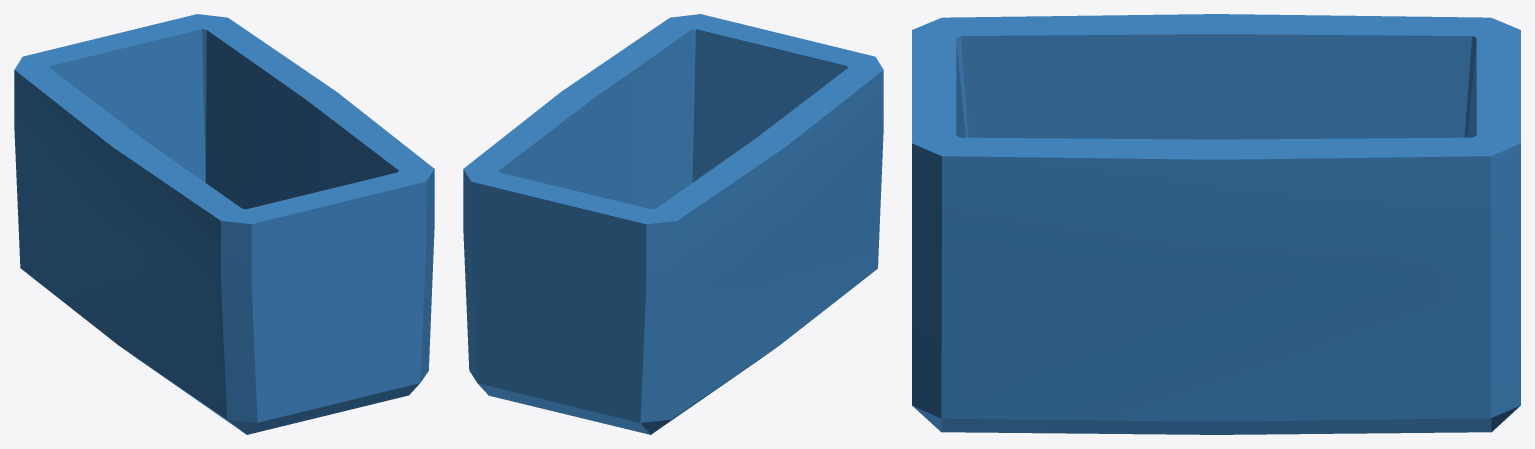
File: SM_Prop_Medical_Container_01.obj
3 views of the same model, side by side, from view 1: azimuth 30°, elevation 25°; view 2: azimuth 150°, elevation 25°; view 3: azimuth 270°, elevation 25° (orthographic). The views are drawn at different scales.
Parts seen in each view (by area): view 1: SM_Prop_Medical_Container_01_0; view 2: SM_Prop_Medical_Container_01_0; view 3: SM_Prop_Medical_Container_01_0.
Part boxes in pixels (x1,y1,x2,y2): SM_Prop_Medical_Container_01_0: [14, 14, 434, 434]; SM_Prop_Medical_Container_01_0: [463, 14, 883, 434]; SM_Prop_Medical_Container_01_0: [912, 14, 1520, 434].
Size of the model in its own units: 0.3107 by 0.2911 by 0.5482.
